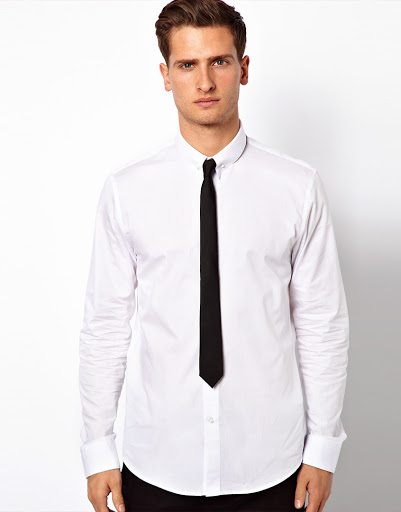tie: (192, 155, 235, 392)
